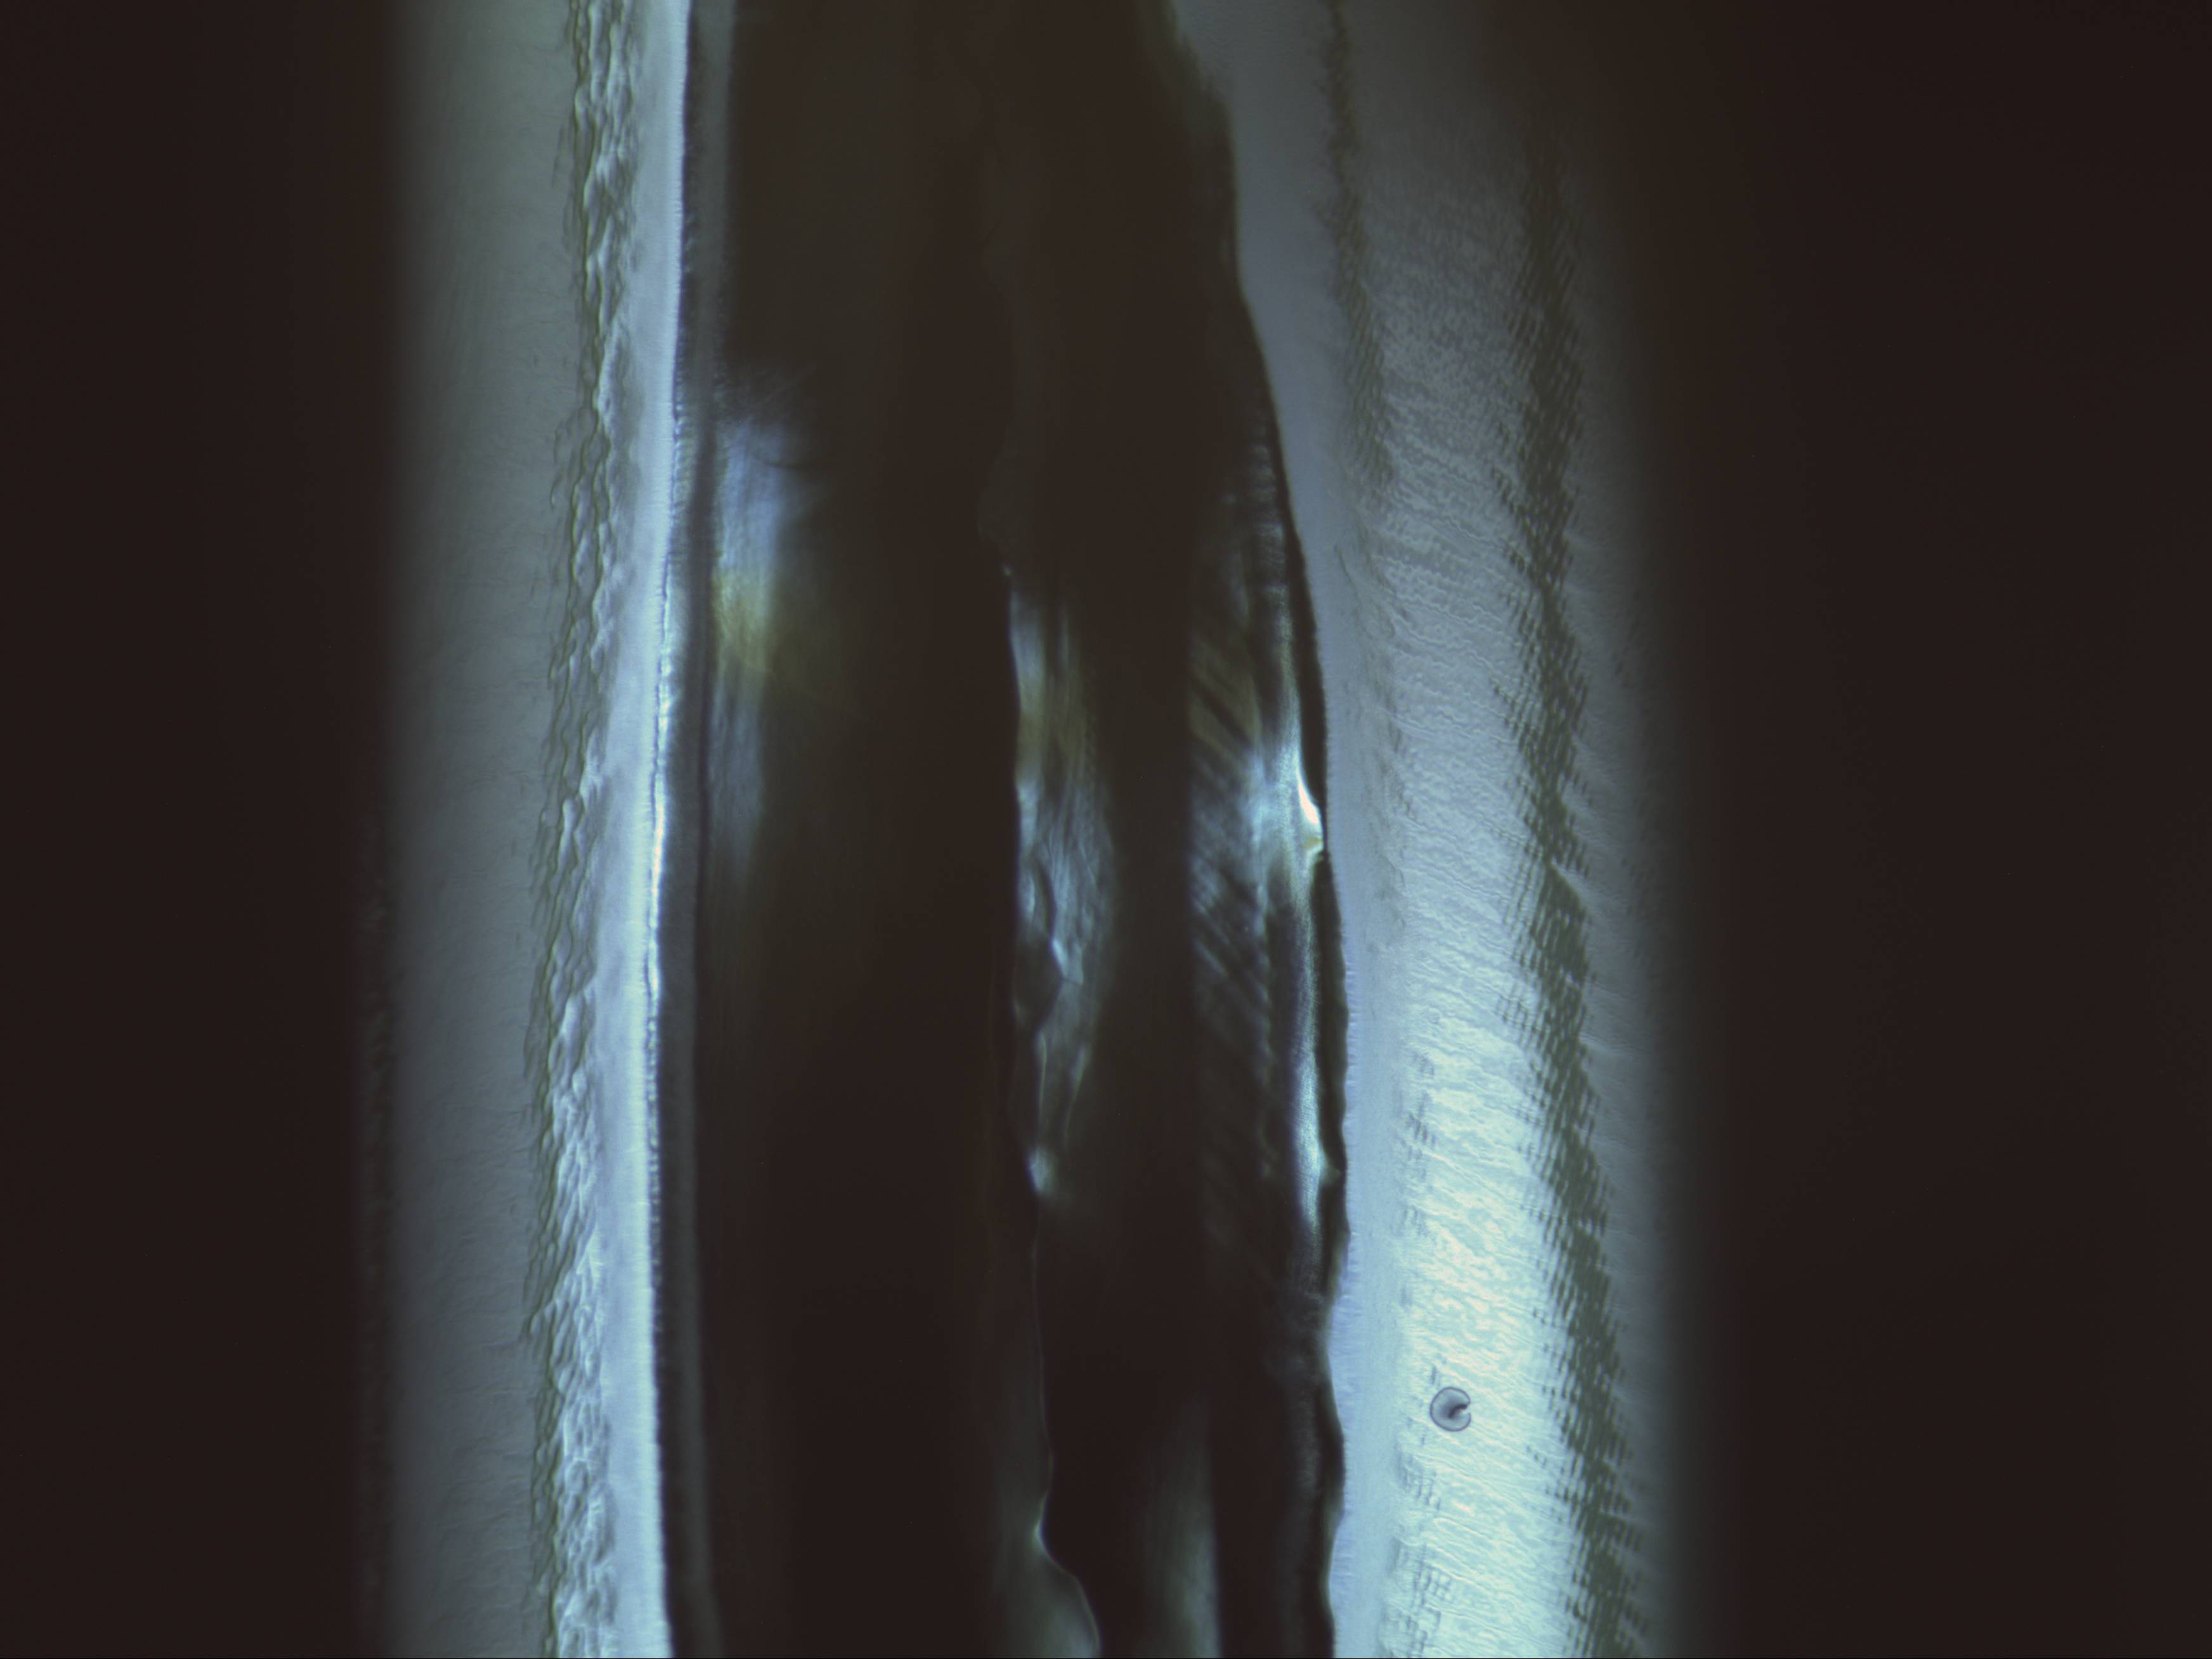defect: (1423, 1382, 1484, 1438)
